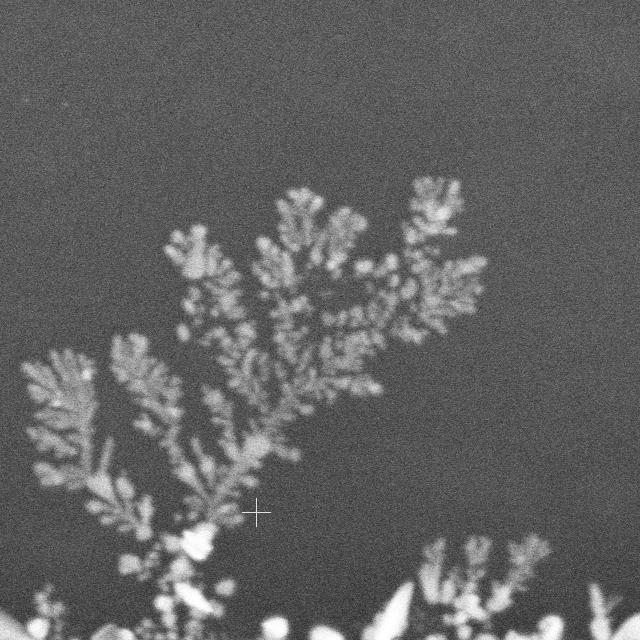Dendrite: (22, 177, 485, 640), (305, 534, 605, 640), (0, 584, 91, 640)
